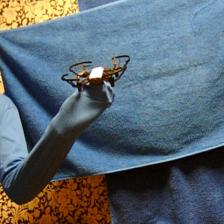drone: (61, 53, 130, 91)
